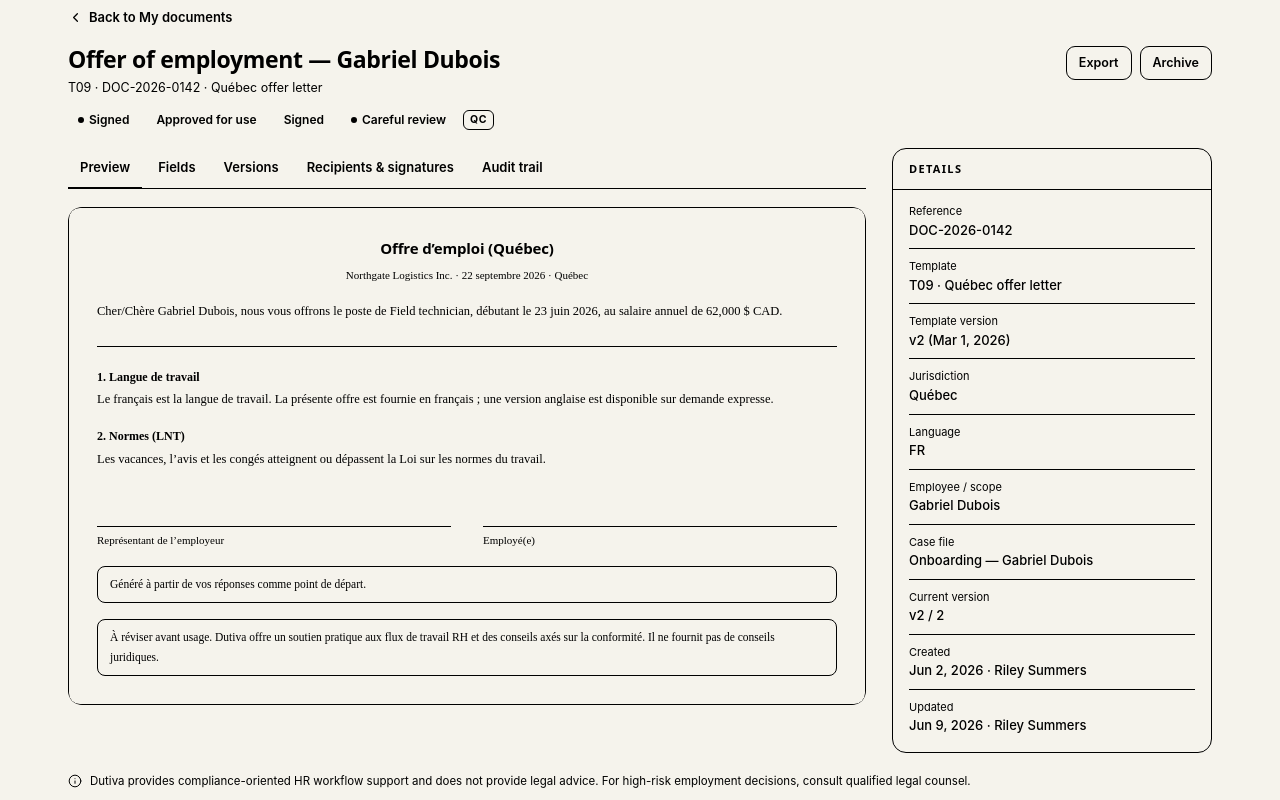
Scenario: DocumentDetailScreen › switches to Versions and Audit trail tabs
Click the tab "Versions" at coordinates (251, 169), box [212, 148, 291, 189]
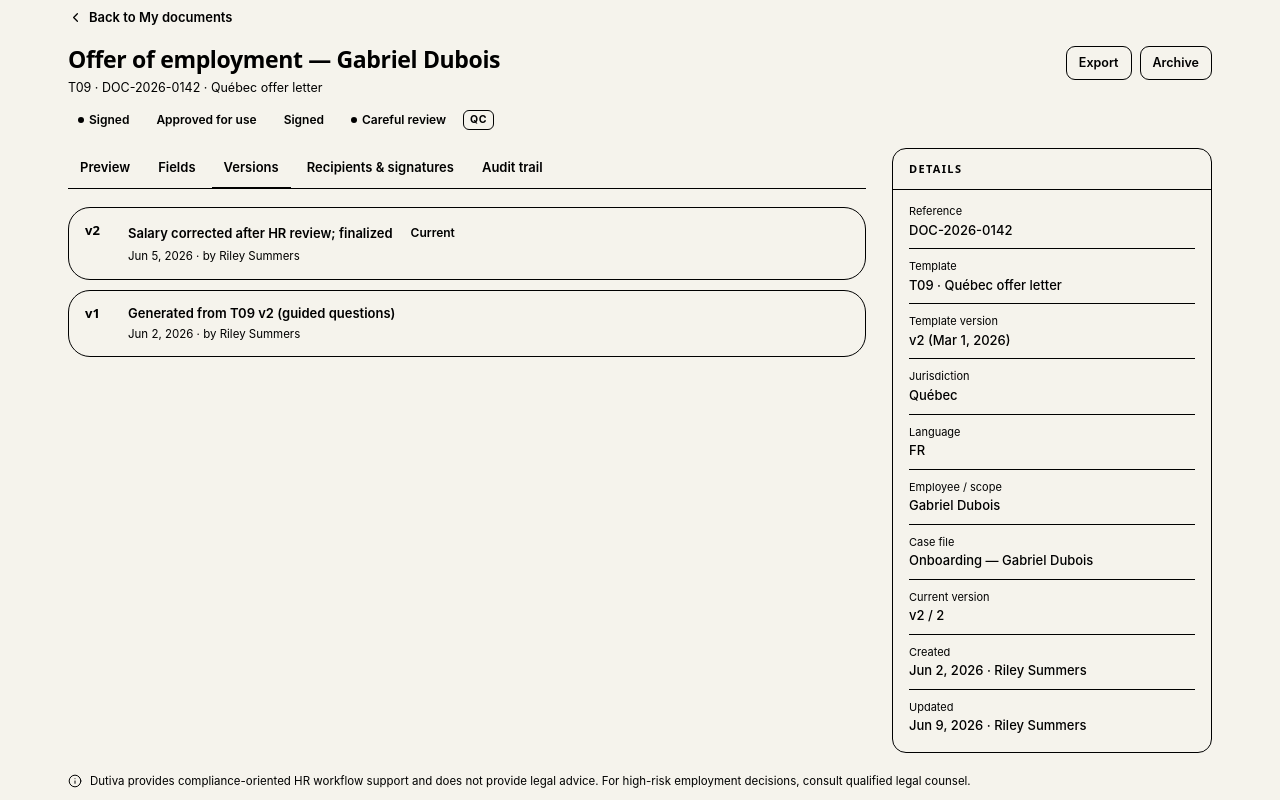
expect the text "Salary corrected after HR review; finalized" is shown: met, box [128, 224, 393, 243]
expect the text "Generated from T09 v2 (guided questions)" is shown: met, box [128, 304, 395, 323]
expect the text "Current" is shown: met, box [411, 225, 455, 240]
Click the tab "Audit trail" at coordinates (512, 169), box [470, 148, 555, 189]
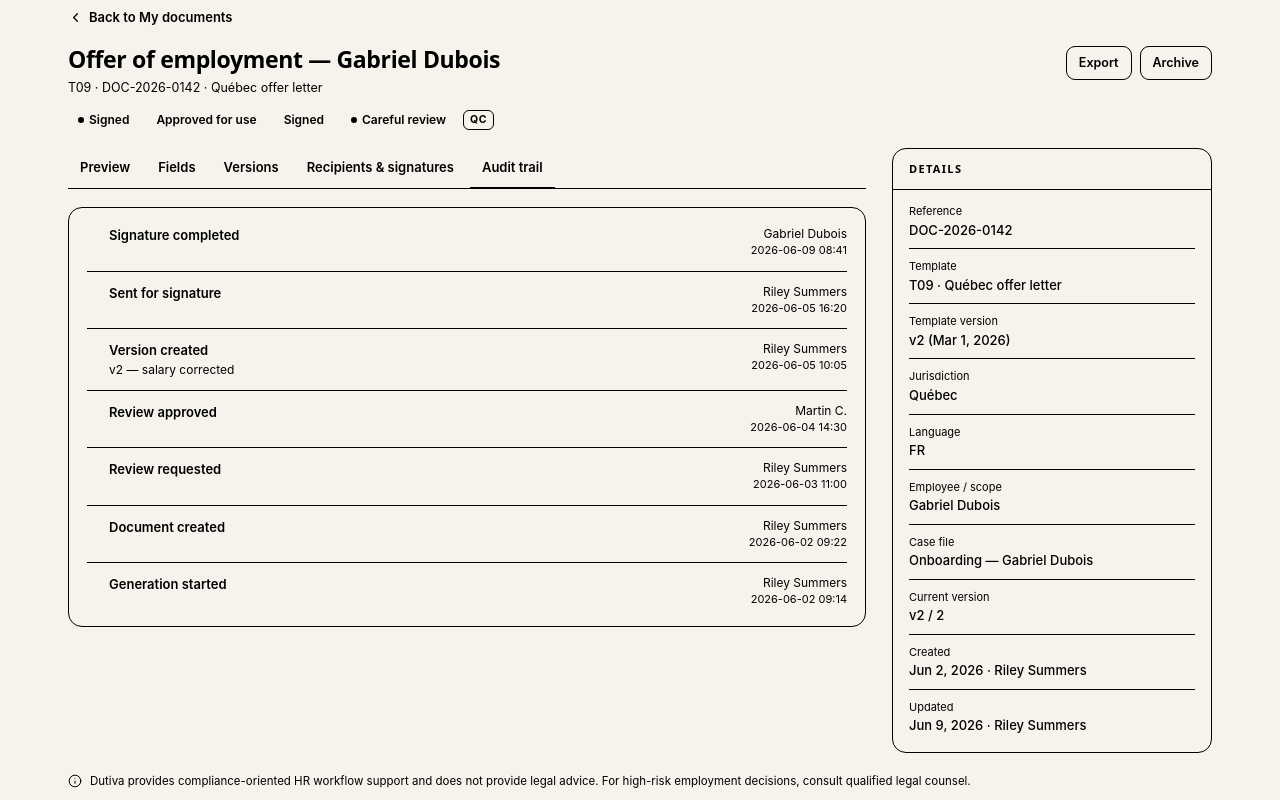
expect the text "Signature completed" is shown: met, box [109, 227, 240, 243]
expect the text "v2 — salary corrected" is shown: met, box [109, 362, 234, 377]
